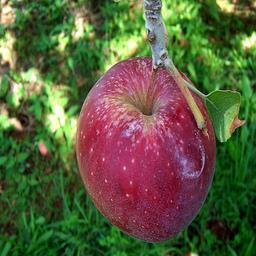apple: (72, 54, 215, 239)
